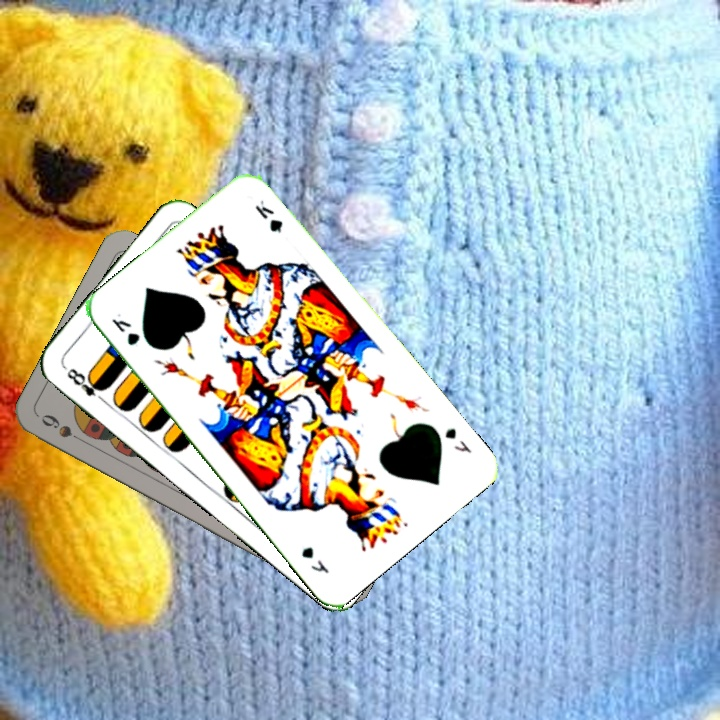E8: (62, 364, 109, 406)
GK: (107, 315, 143, 349), (440, 424, 474, 456)
S9: (37, 410, 90, 447)
